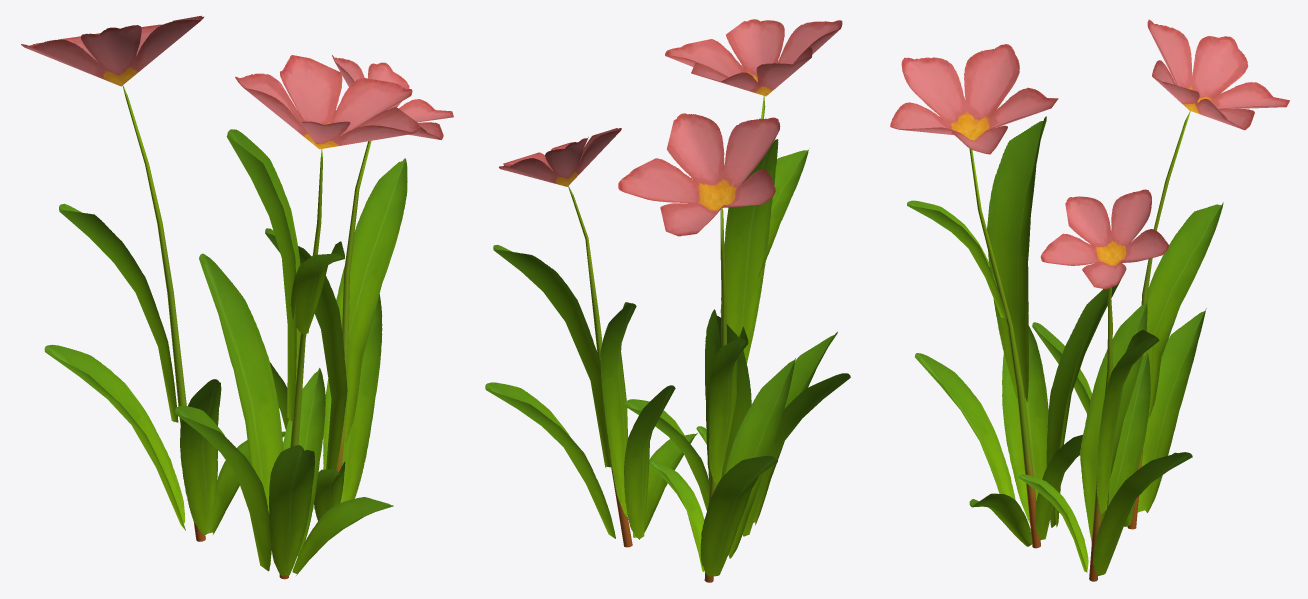
Rendered from flower_3_group.glb.
3 views of the same model, side by side, from view 1: azimuth 30°, elevation 25°; view 2: azimuth 150°, elevation 25°; view 3: azimuth 270°, elevation 25° (orthographic). The views are drawn at different scales.
Visible parts, largest first — view 1: Flower_3_Group; view 2: Flower_3_Group; view 3: Flower_3_Group.
Boxes of the visible parts, bbox=[...] form: Flower_3_Group: bbox=[21, 15, 453, 579]; Flower_3_Group: bbox=[485, 19, 850, 582]; Flower_3_Group: bbox=[890, 19, 1289, 581].
Bounding box in the file's own units: 1.49 × 2.05 × 1.59.
Materials: 2 (2 with a texture image).
